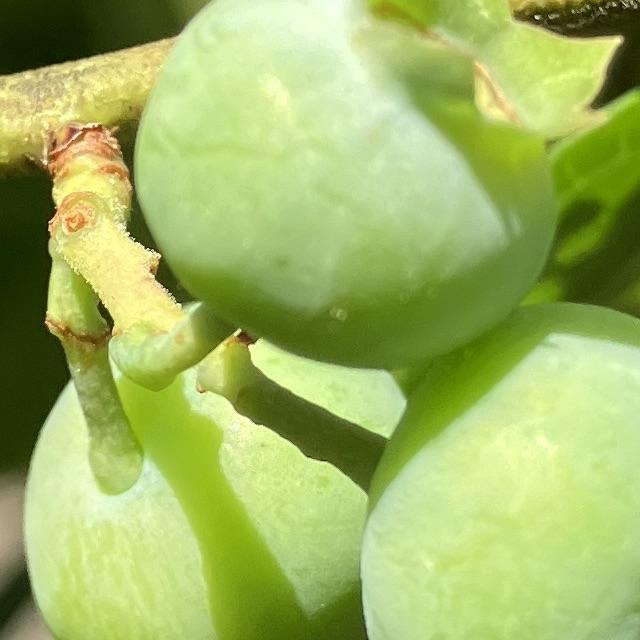Blueberries: (137, 0, 628, 383), (329, 294, 640, 640)
